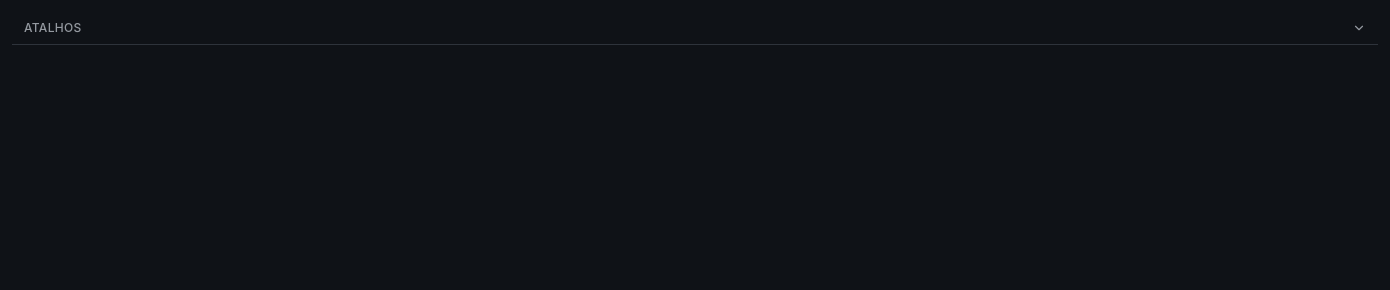
Test case: KeyboardShortcutsPanel › restaurar padrao volta a tecla trocada
The image size is (1390, 290).
Click the button "Atalhos" at (53, 28), box [12,12,1378,44]
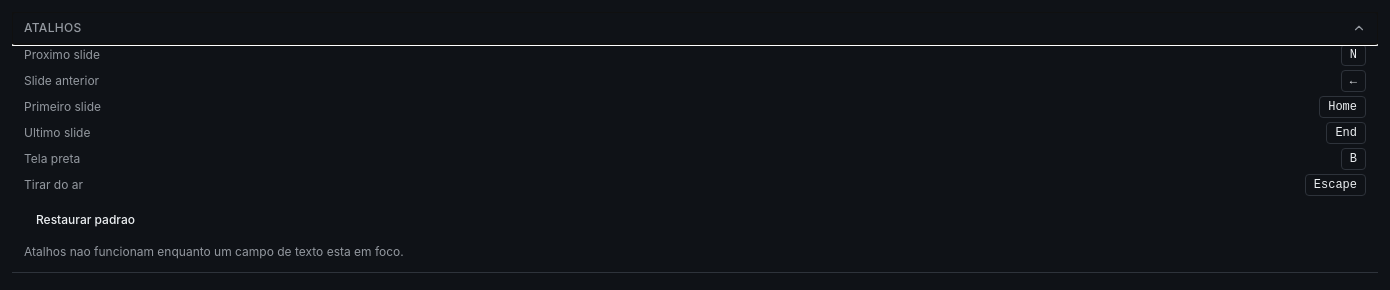
Click the button "Restaurar padrao" at (86, 220), box [24,204,147,236]
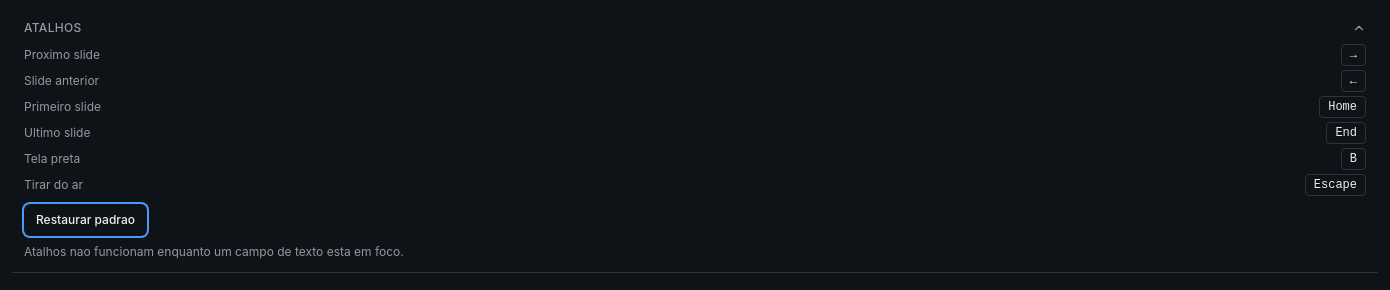
Check: the button "→" is shown, box [1341,44,1366,66]
